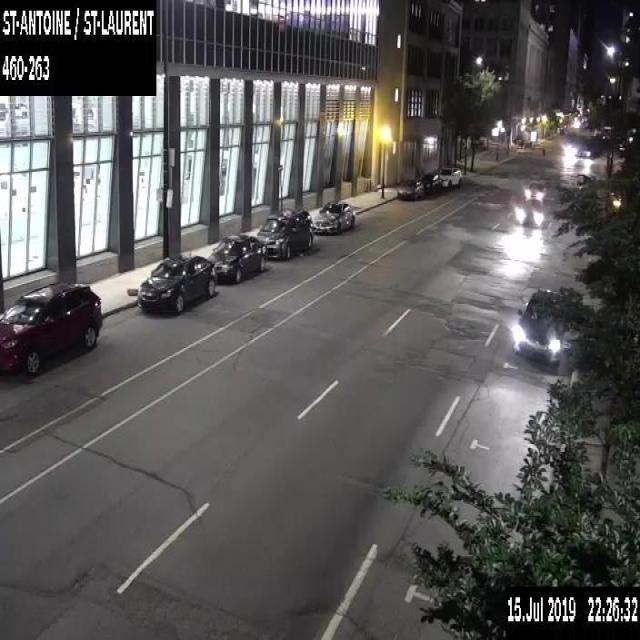vehicle: (0, 278, 103, 374), (137, 253, 217, 312), (514, 286, 568, 367), (206, 233, 267, 282), (255, 208, 313, 259), (311, 200, 355, 234), (517, 197, 545, 226), (397, 177, 423, 201), (438, 165, 461, 188), (524, 180, 546, 203), (420, 172, 441, 192)
